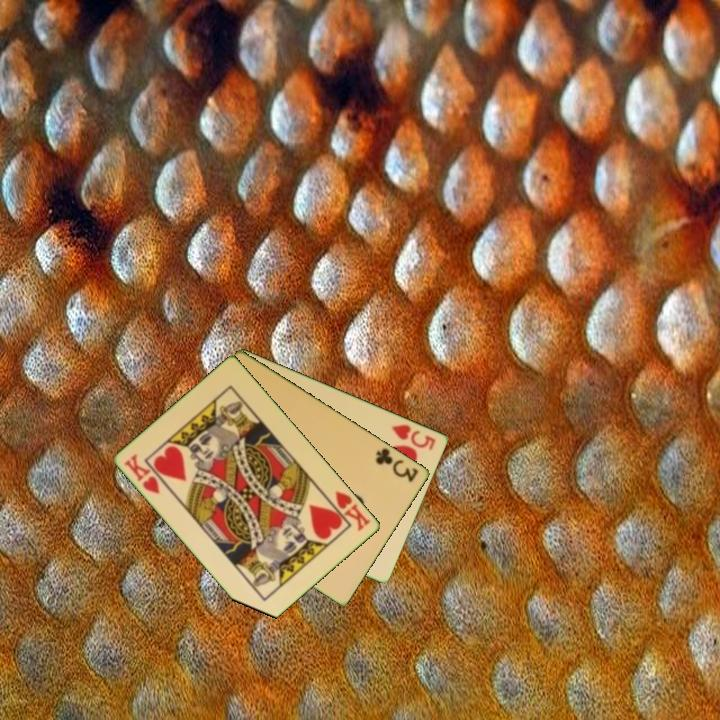3c: (372, 444, 422, 485)
5h: (388, 421, 439, 453)
Kh: (323, 488, 374, 534), (121, 450, 163, 497)
